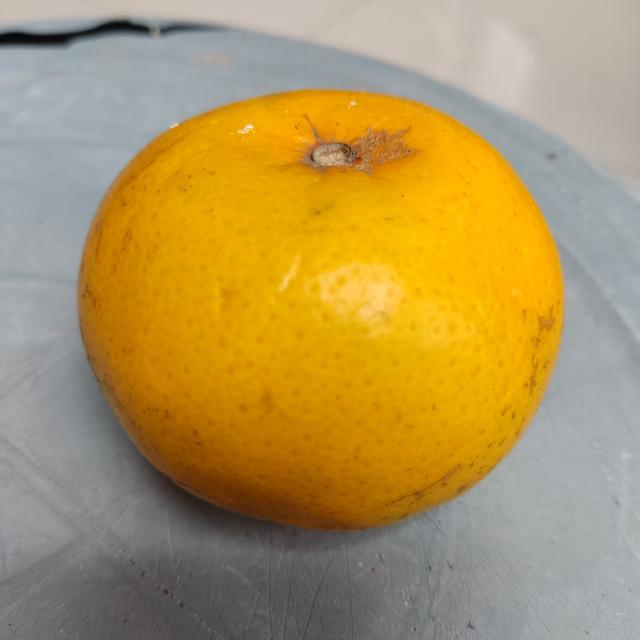orange: (76, 89, 565, 535)
